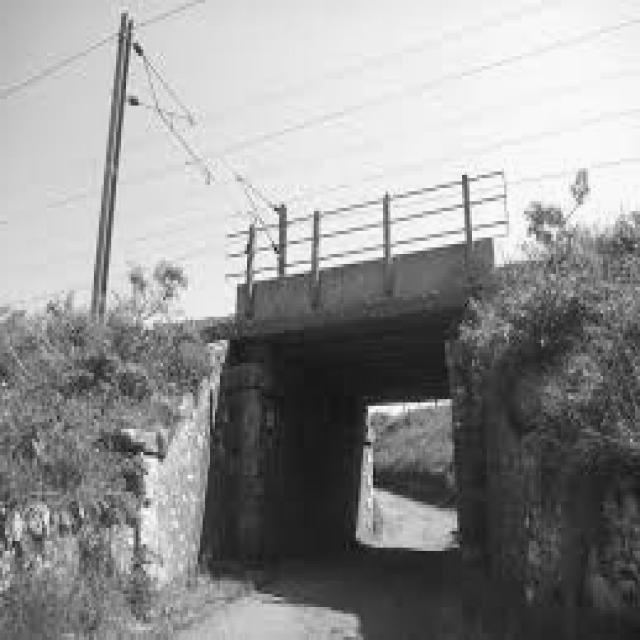Bridges: (111, 116, 582, 474)
